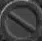No waiting: (1, 2, 39, 38)
